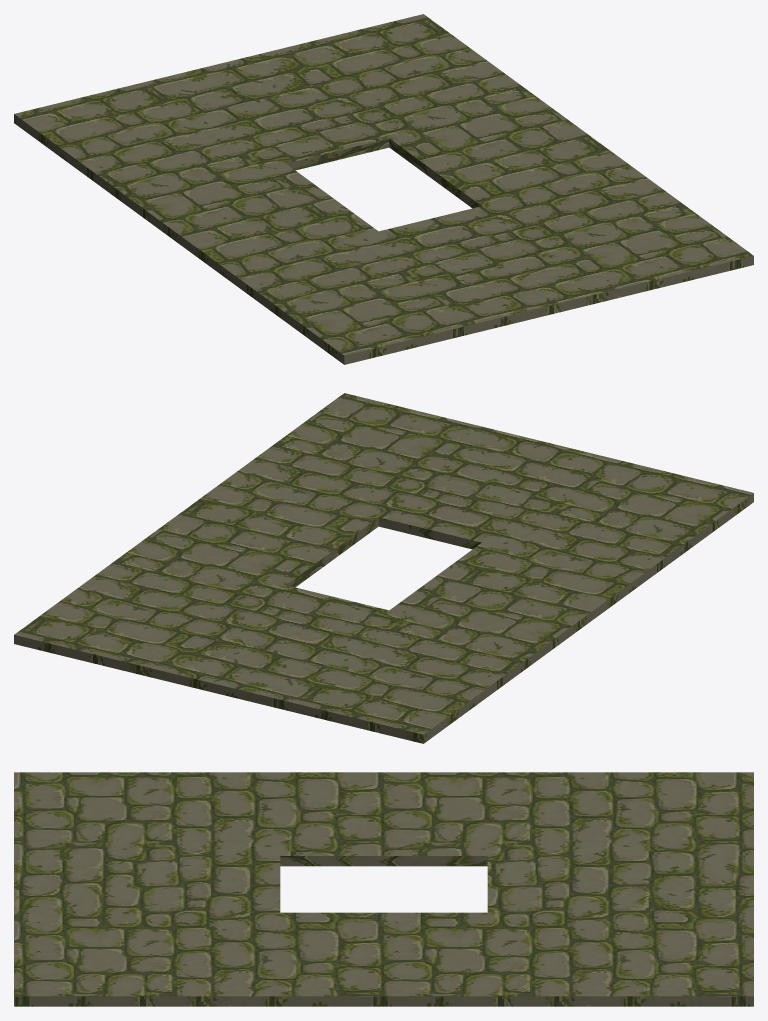
Rendered from Roof Test.fbx.
3 views of the same model, one above another, from view 1: azimuth 30°, elevation 25°; view 2: azimuth 150°, elevation 25°; view 3: azimuth 270°, elevation 25° (orthographic). The views are drawn at different scales.
Parts seen in each view (by area): view 1: Cube.006; view 2: Cube.006; view 3: Cube.006.
Boxes of the visible parts, left/top/right/bottom form: Cube.006: left=14, top=14, right=753, bottom=364; Cube.006: left=14, top=393, right=753, bottom=743; Cube.006: left=14, top=772, right=753, bottom=1006.
Size of the model in its own units: 1659 by 35.58 by 2318.
